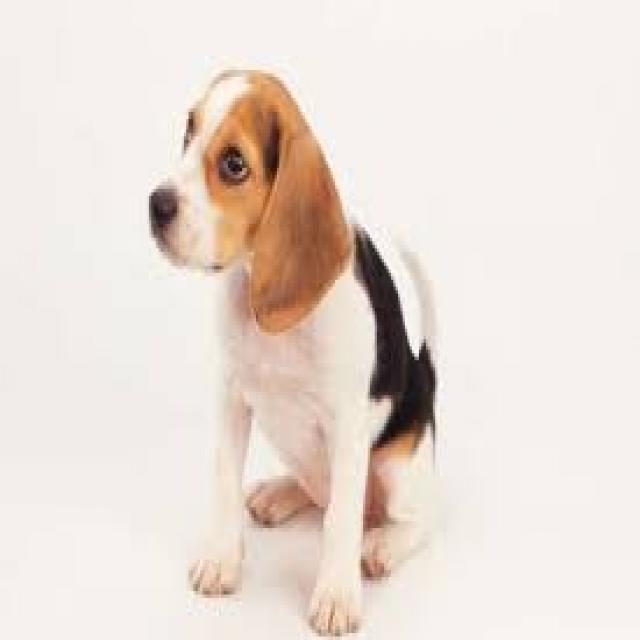Dog: (140, 63, 442, 640)
